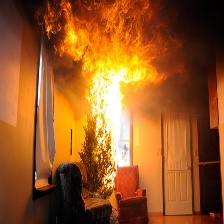fire: (44, 1, 173, 192)
